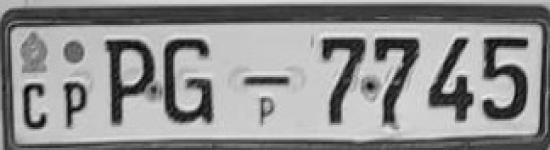4: (420, 29, 478, 129)
5: (480, 26, 535, 128)
7: (314, 32, 372, 131), (374, 33, 422, 134)
C: (19, 78, 52, 136)
G: (156, 31, 224, 129), (239, 68, 293, 96)
P: (98, 36, 158, 132), (63, 78, 95, 127)
